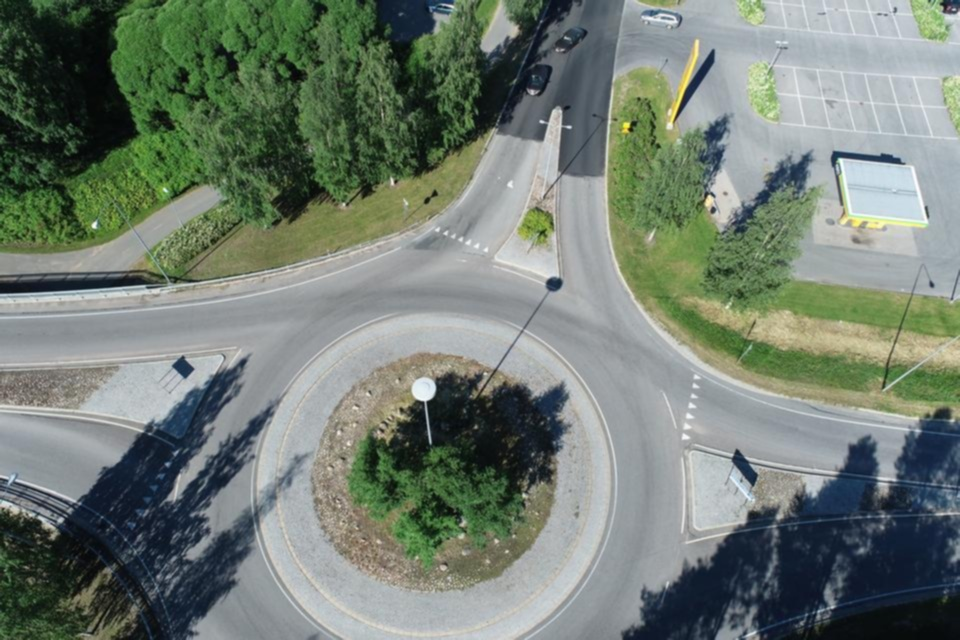roundabout: (152, 238, 717, 640)
